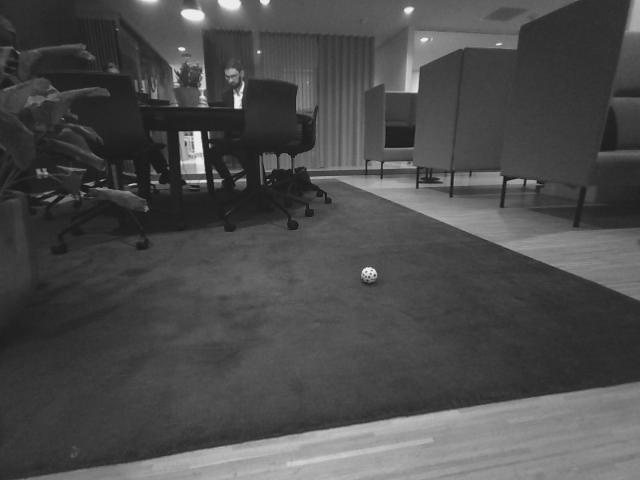dogtoy: (355, 261, 383, 290)
